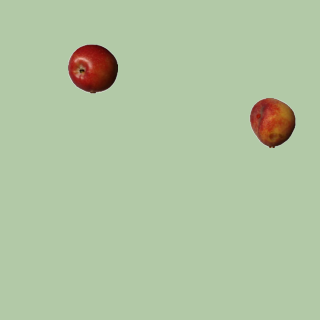Apple Braeburn: (67, 43, 117, 93)
Peach: (247, 97, 297, 147)
